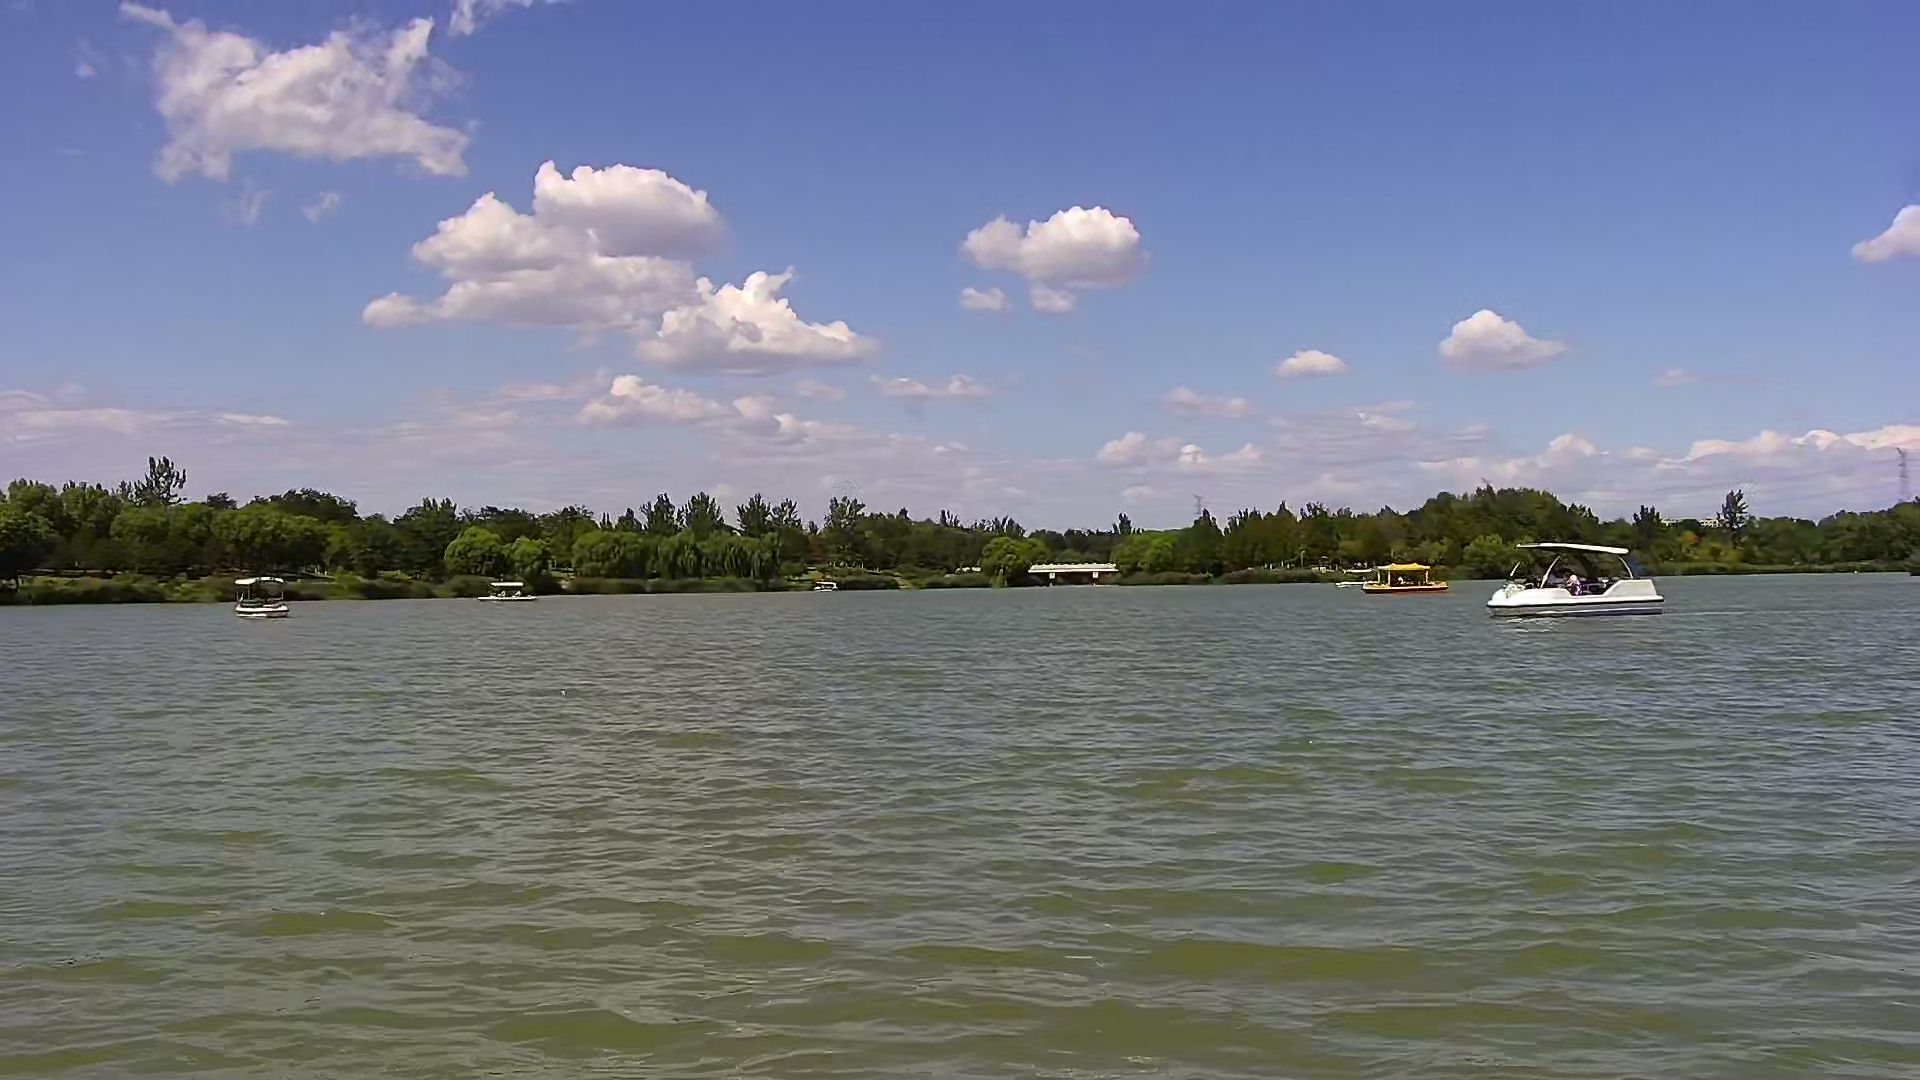boat: (1485, 539, 1663, 620), (233, 574, 287, 618), (1373, 564, 1449, 589), (475, 578, 535, 603), (1337, 568, 1381, 585)
bridge: (1029, 560, 1118, 583)
